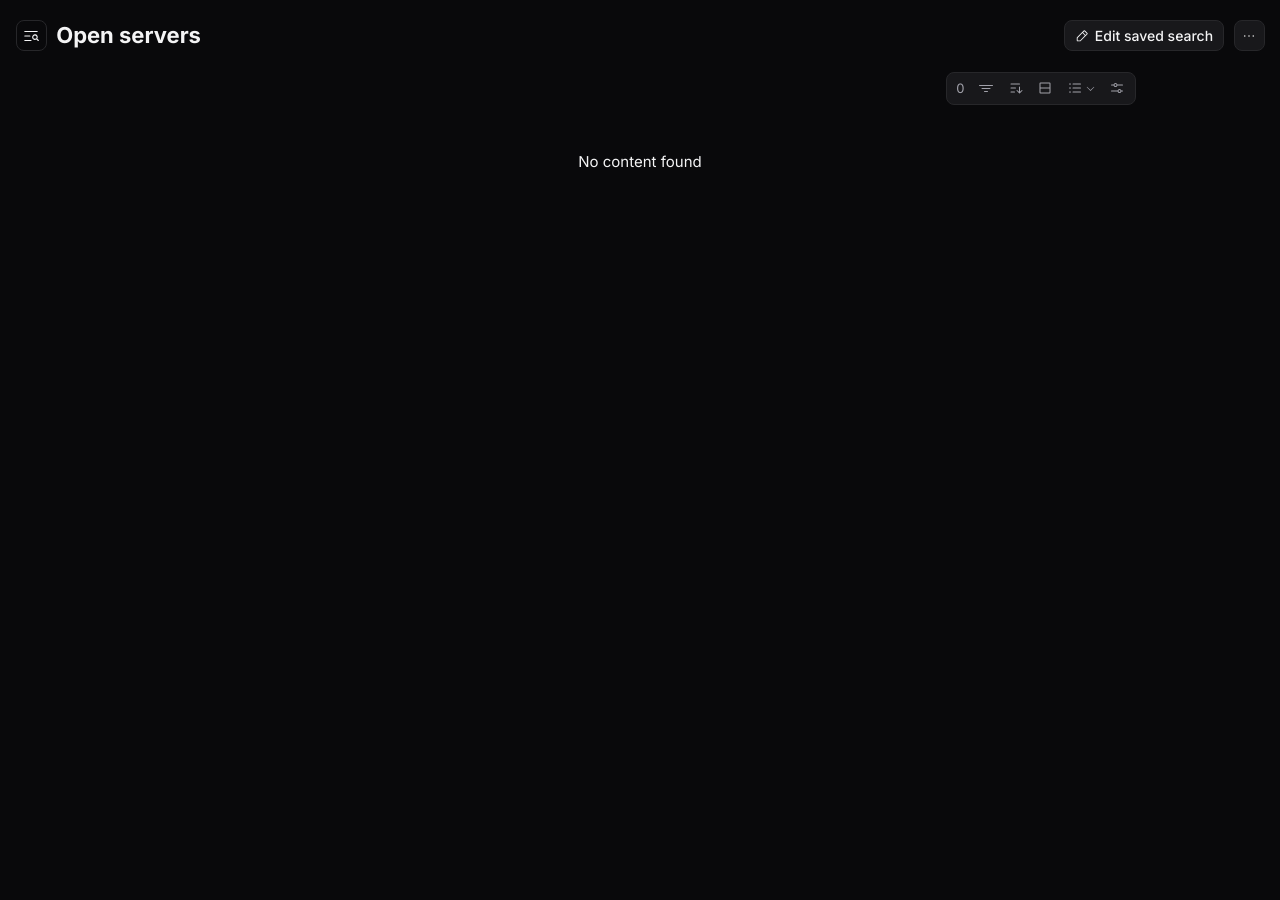
Test case: Version History entries for definitions › a saved query has Version History in its … menu
The image size is (1280, 900).
Click the button named "More" at (1249, 36), box [1234, 20, 1264, 51]
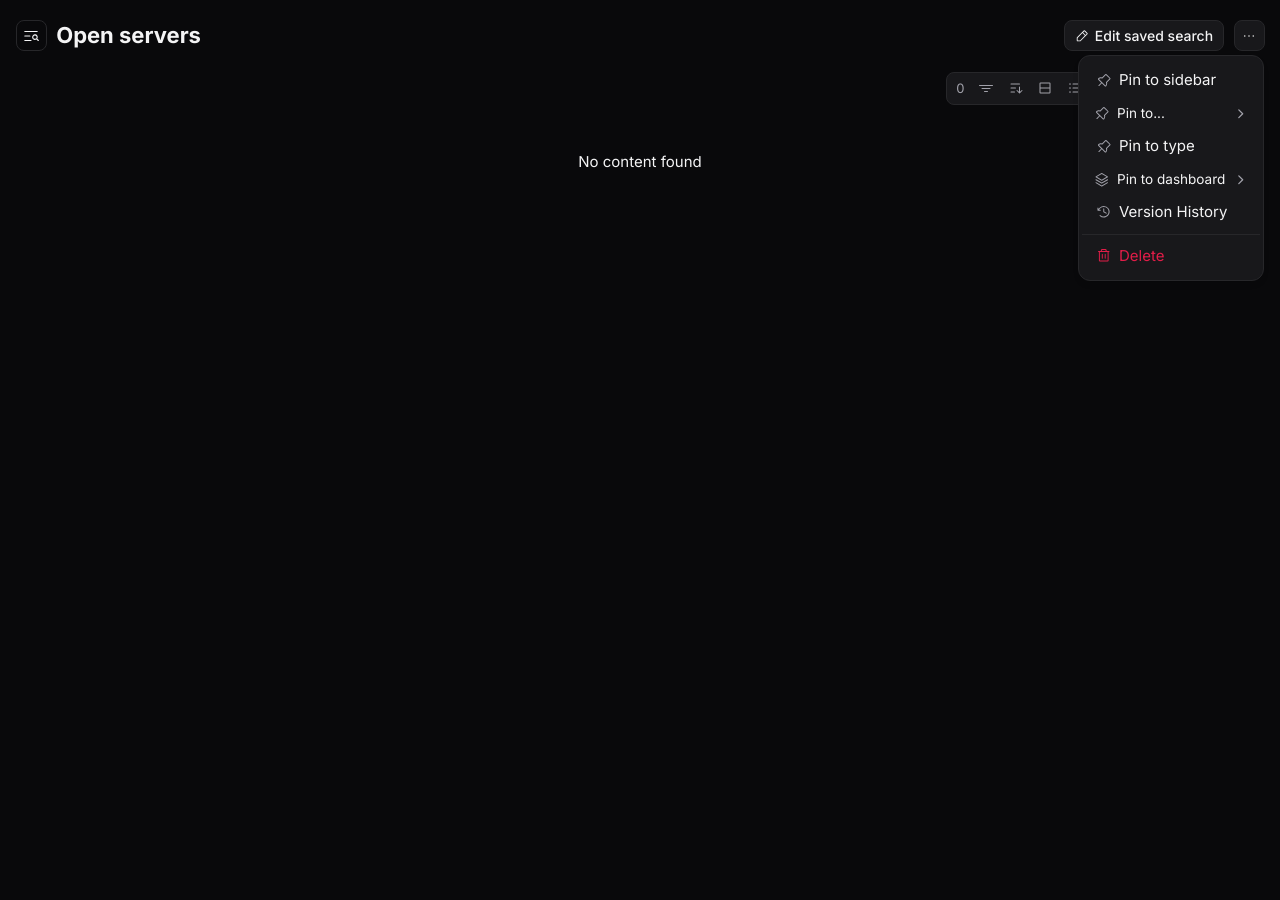
Click the menu item "Version History" at (1162, 211), box [1096, 202, 1227, 221]
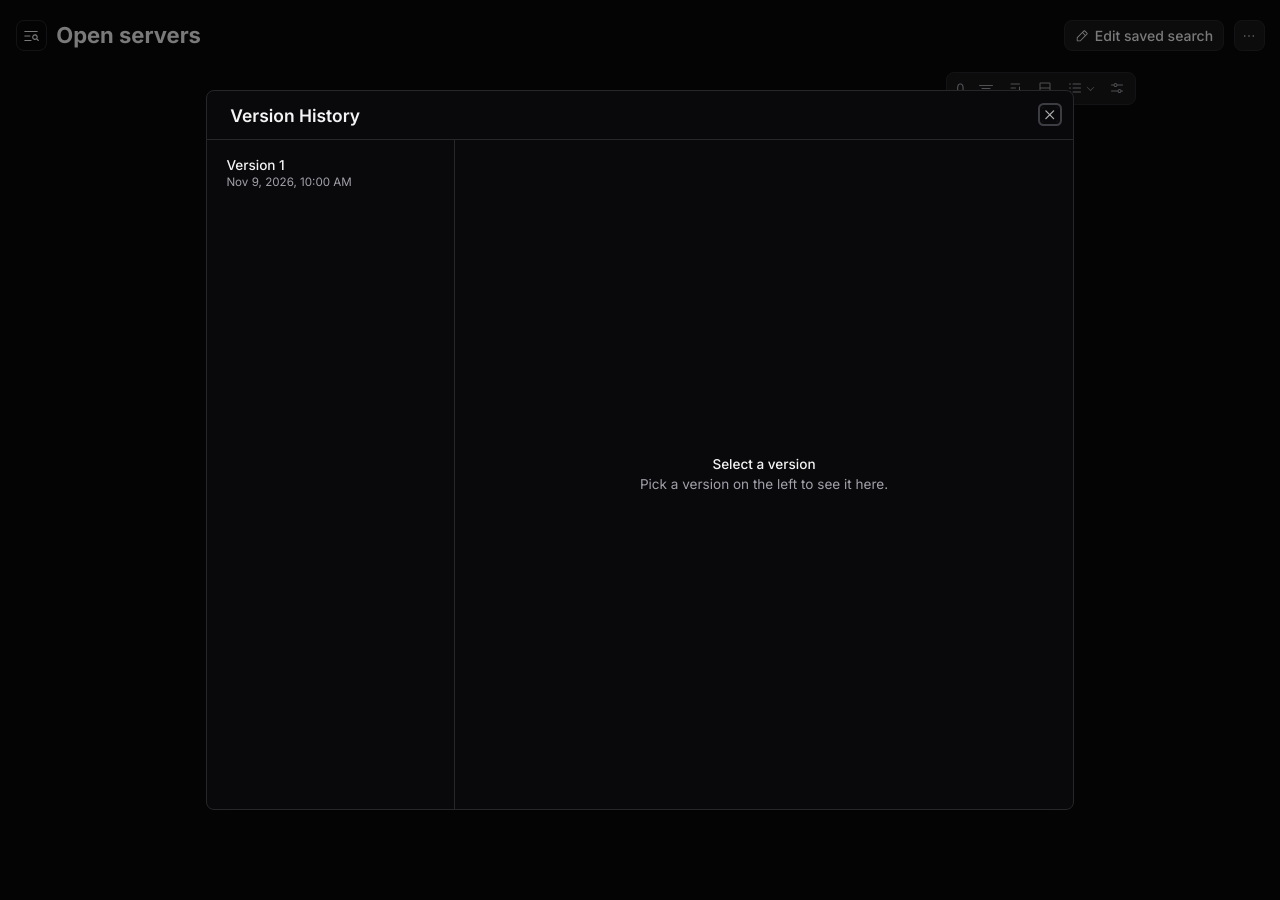
Check: the heading "Version History" is shown, box [230, 104, 360, 126]
Check: the text "Version 1" is shown, box [226, 157, 285, 173]
